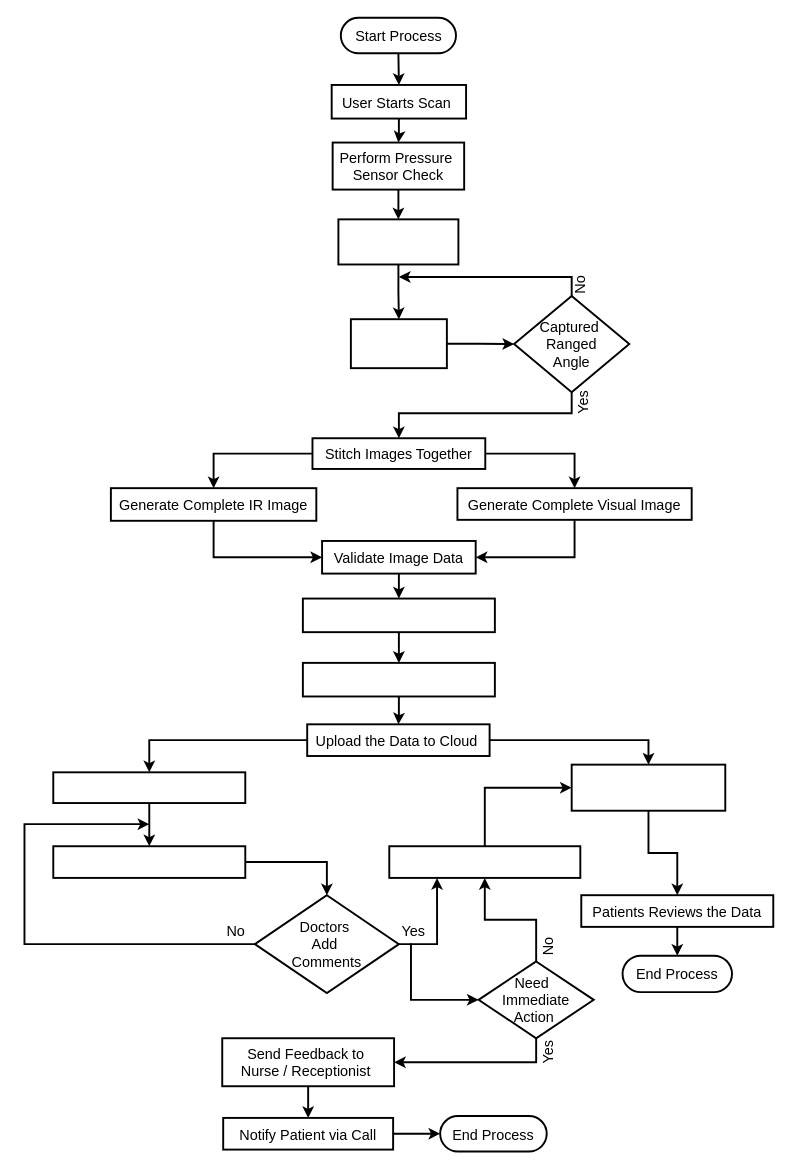
Some shapes in this 790 by 1168 pixel diagram are drawn without their labels. Each missing label, with the centre of its shape:
Activate Servo Motors: (398,241)
Doctors Reviews the Data: (149,861)
Encrypt Data For Security: (398,679)
Notify Doctor via Web App: (149,787)
Notify Patients via Mobile App: (648,787)
Prepare Data For Upload: (398,615)
Scan Image Strip: (398,343)
Send Feedback to Patients: (484,861)
